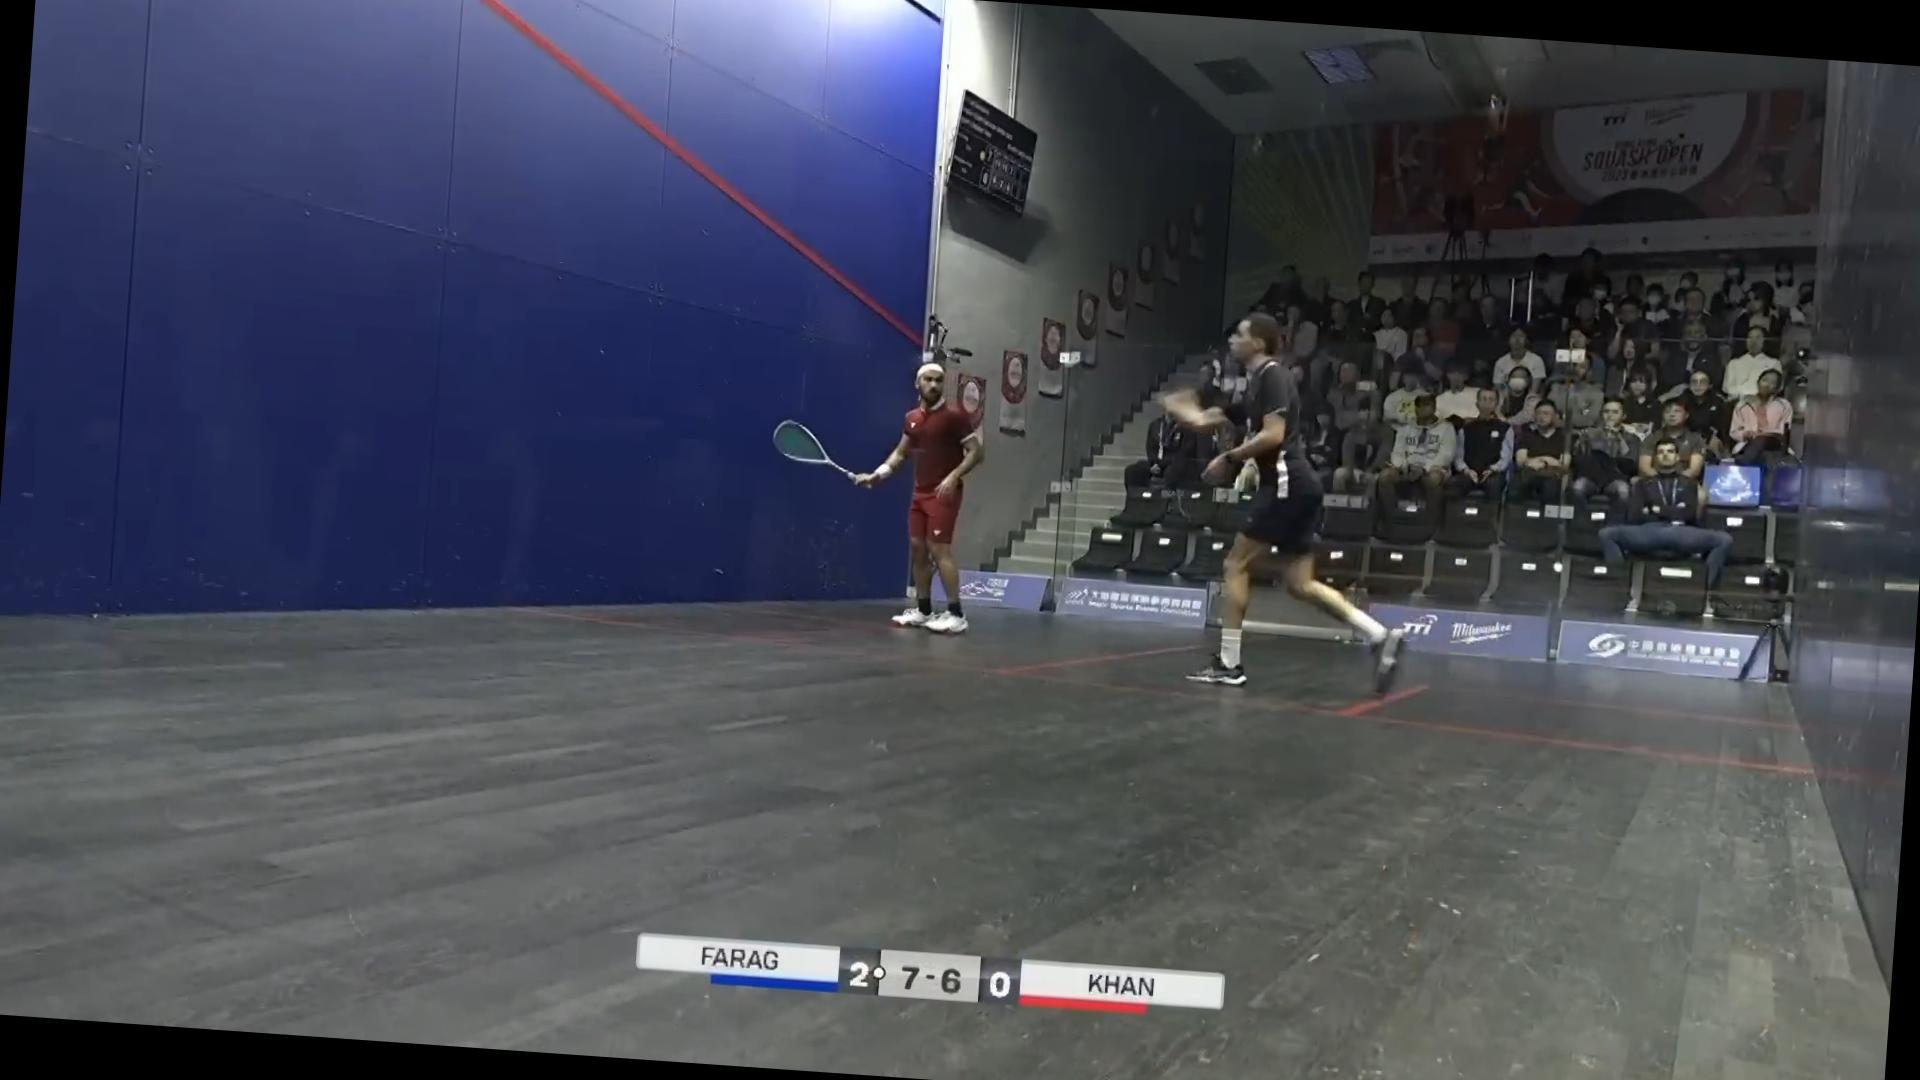Racket: (765, 407, 857, 483)
